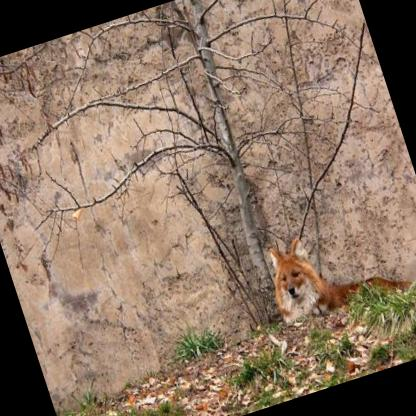dhole: (258, 208, 414, 331)
